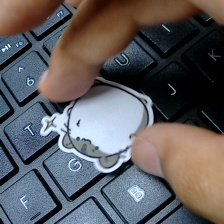mouse: (40, 72, 157, 177)
